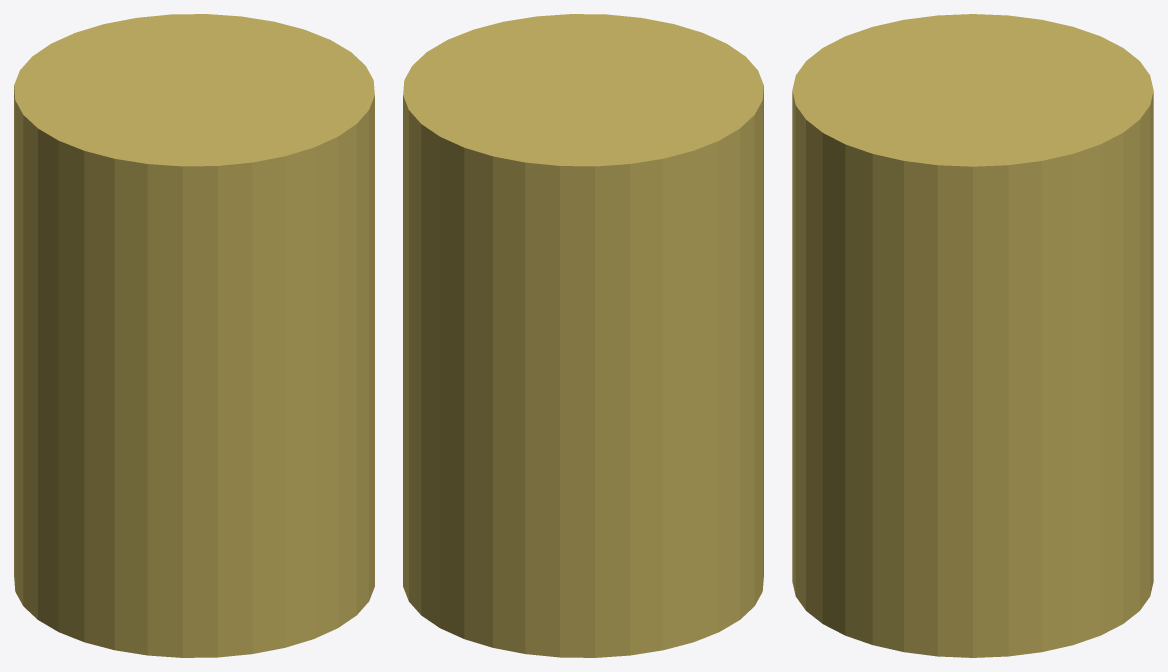
File: prop_cylinder_yellow.glb
3 renders of one model, left to right at view 1: azimuth 30°, elevation 25°; view 2: azimuth 150°, elevation 25°; view 3: azimuth 270°, elevation 25°, orthographic.
Parts seen in each view (by area): view 1: geometry_0; view 2: geometry_0; view 3: geometry_0.
Boxes of the visible parts, <box> form: geometry_0: <box>14,14,374,657</box>; geometry_0: <box>403,14,763,657</box>; geometry_0: <box>792,14,1153,657</box>.
Bounding box in the file's own units: 0.4 × 0.6 × 0.4.
